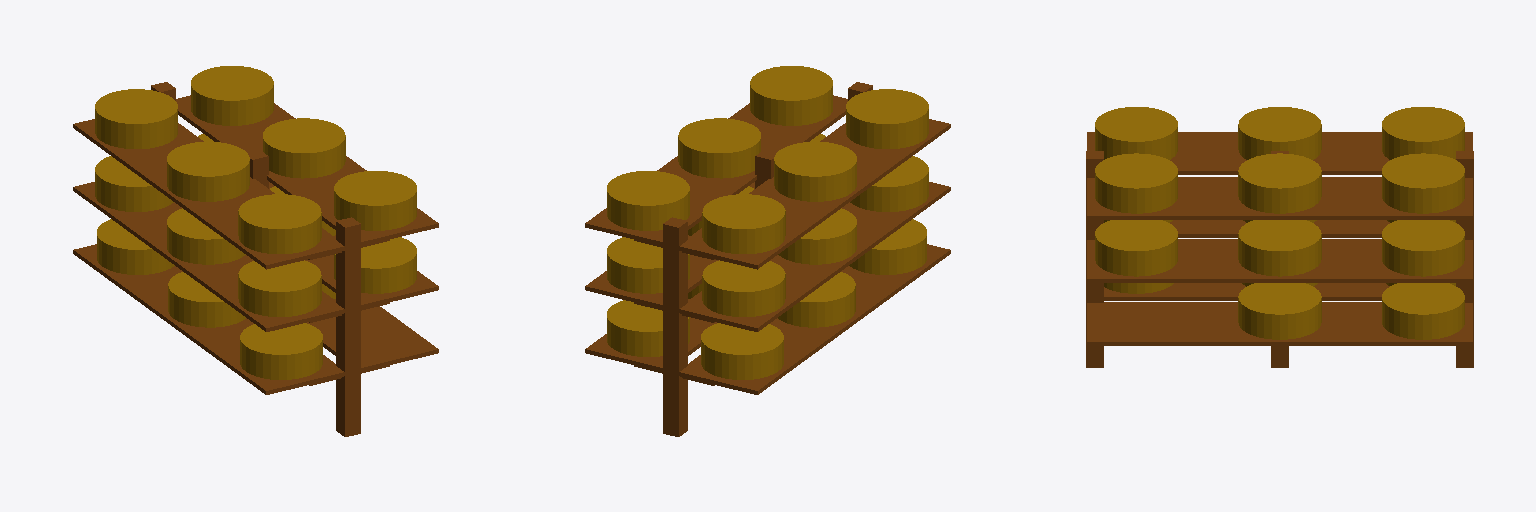
Rendered from droogrekmist.obj.
The picture shows the model from 3 angles: view 1: azimuth 30°, elevation 25°; view 2: azimuth 150°, elevation 25°; view 3: azimuth 270°, elevation 25°; orthographic projection.
Parts seen in each view (by area): view 1: Cube.009_Cube.010, Cylinder.016, Cylinder.013, Cylinder.014, Cylinder.015, Cylinder.012, Cylinder.011, Cylinder.009, Cylinder.004, Cylinder.010, Cylinder.006, Cylinder.007 (+2 smaller); view 2: Cube.009_Cube.010, Cylinder.014, Cylinder.011, Cylinder.016, Cylinder.015, Cylinder.012, Cylinder.013, Cylinder.006, Cylinder.001, Cylinder, Cylinder.005, Cylinder.009 (+3 smaller); view 3: Cube.009_Cube.010, Cylinder.012, Cylinder.013, Cylinder.011, Cylinder.002, Cylinder.008, Cylinder, Cylinder.010, Cylinder.005, Cylinder.015, Cylinder.016, Cylinder.014 (+1 smaller).
Boxes of the visible parts, <box> form: Cube.009_Cube.010: <box>73,82,438,436</box>; Cylinder.016: <box>238,194,321,253</box>; Cylinder.013: <box>191,66,273,125</box>; Cylinder.014: <box>95,89,177,148</box>; Cylinder.015: <box>167,142,249,201</box>; Cylinder.012: <box>263,118,345,178</box>; Cylinder.011: <box>334,171,416,230</box>; Cylinder.009: <box>238,260,321,316</box>; Cylinder.004: <box>240,323,322,379</box>; Cylinder.010: <box>334,237,416,293</box>; Cylinder.006: <box>95,156,173,211</box>; Cylinder.007: <box>167,208,245,264</box>; Cube.009_Cube.010: <box>585,82,950,436</box>; Cylinder.014: <box>702,194,785,253</box>; Cylinder.011: <box>750,66,832,125</box>; Cylinder.016: <box>846,89,928,148</box>; Cylinder.015: <box>774,142,856,201</box>; Cylinder.012: <box>678,118,760,178</box>; Cylinder.013: <box>607,171,689,230</box>; Cylinder.006: <box>702,260,785,316</box>; Cylinder.001: <box>701,323,783,379</box>; Cylinder: <box>607,300,689,356</box>; Cylinder.005: <box>607,237,689,293</box>; Cylinder.009: <box>850,156,928,211</box>; Cube.009_Cube.010: <box>1086,132,1473,367</box>; Cylinder.012: <box>1238,153,1321,213</box>; Cylinder.013: <box>1382,153,1464,213</box>; Cylinder.011: <box>1095,153,1177,213</box>; Cylinder.002: <box>1238,283,1321,339</box>; Cylinder.008: <box>1238,220,1321,276</box>; Cylinder: <box>1382,283,1464,339</box>; Cylinder.010: <box>1095,220,1177,276</box>; Cylinder.005: <box>1382,220,1464,276</box>; Cylinder.015: <box>1238,107,1321,159</box>; Cylinder.016: <box>1095,107,1177,159</box>; Cylinder.014: <box>1382,107,1464,159</box>.
Size of the model in its own units: 4.3 by 5.17 by 8.4.